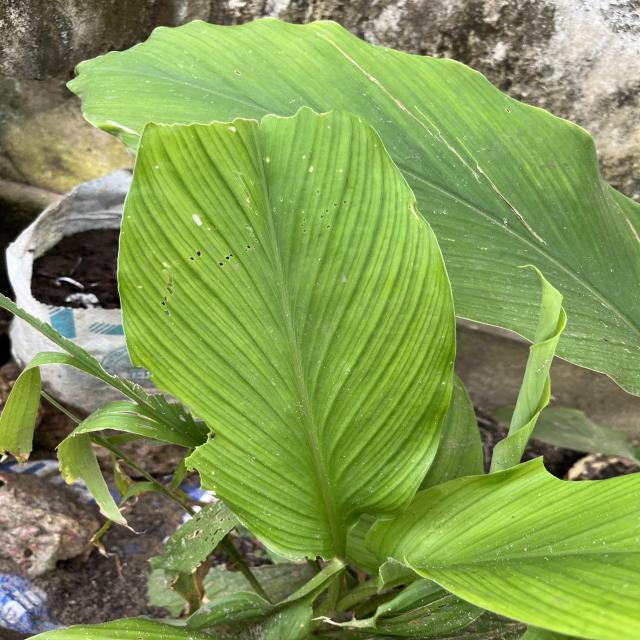Curcuma longa: (59, 10, 640, 402), (110, 101, 464, 568)
